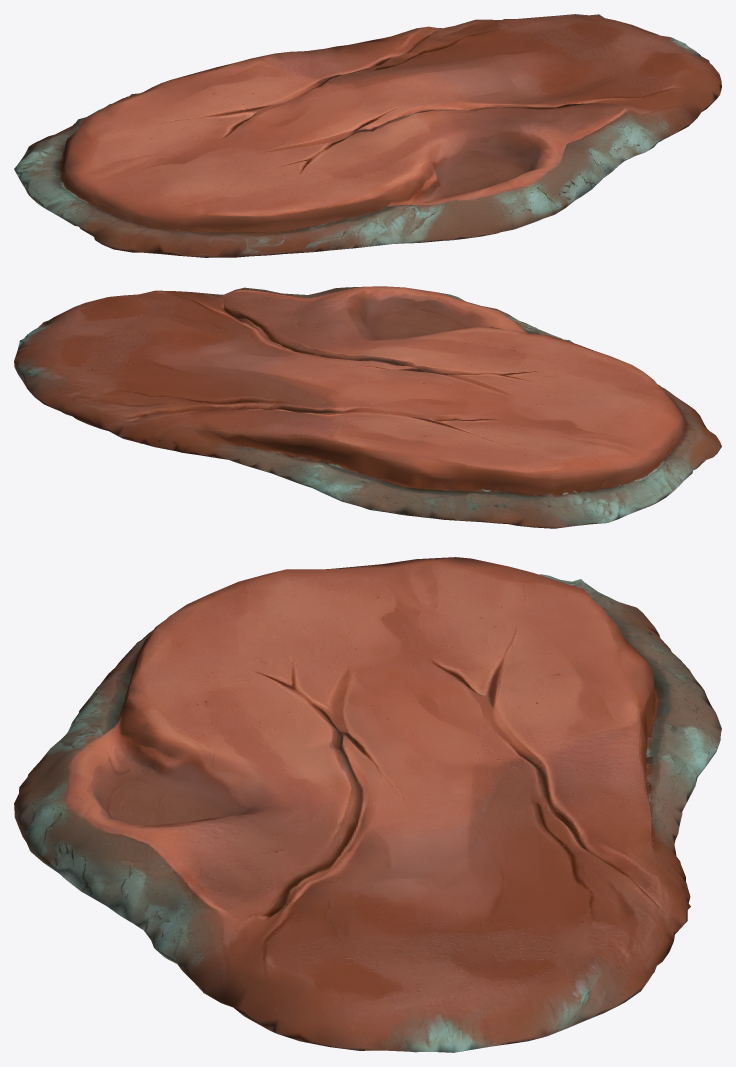
The picture shows the model from 3 angles, top to bottom: view 1: azimuth 30°, elevation 25°; view 2: azimuth 150°, elevation 25°; view 3: azimuth 270°, elevation 25°; orthographic projection. The views are drawn at different scales.
Size of the model in its own units: 2 by 0.1079 by 1.24.
1 material, 1 textured.
